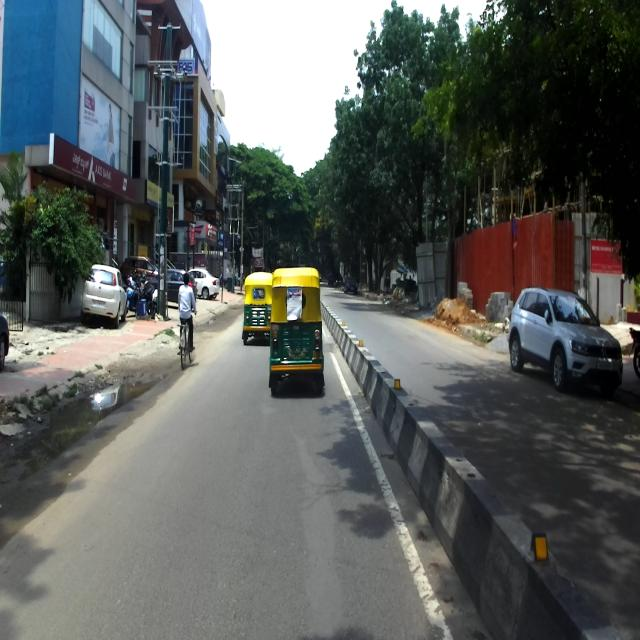auto ahead at: (267, 267, 325, 386)
bicycle ahead at: (178, 274, 196, 371)
car ahead at: (82, 262, 124, 321)
